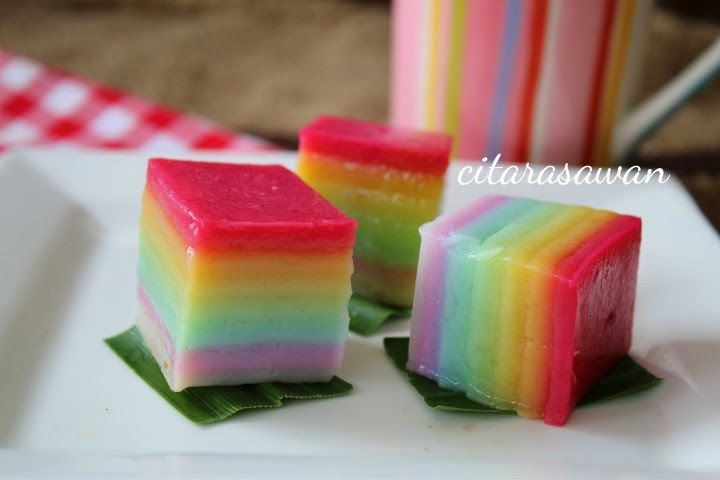kue_lapis_pelangi: (404, 193, 643, 426), (138, 158, 356, 393)
